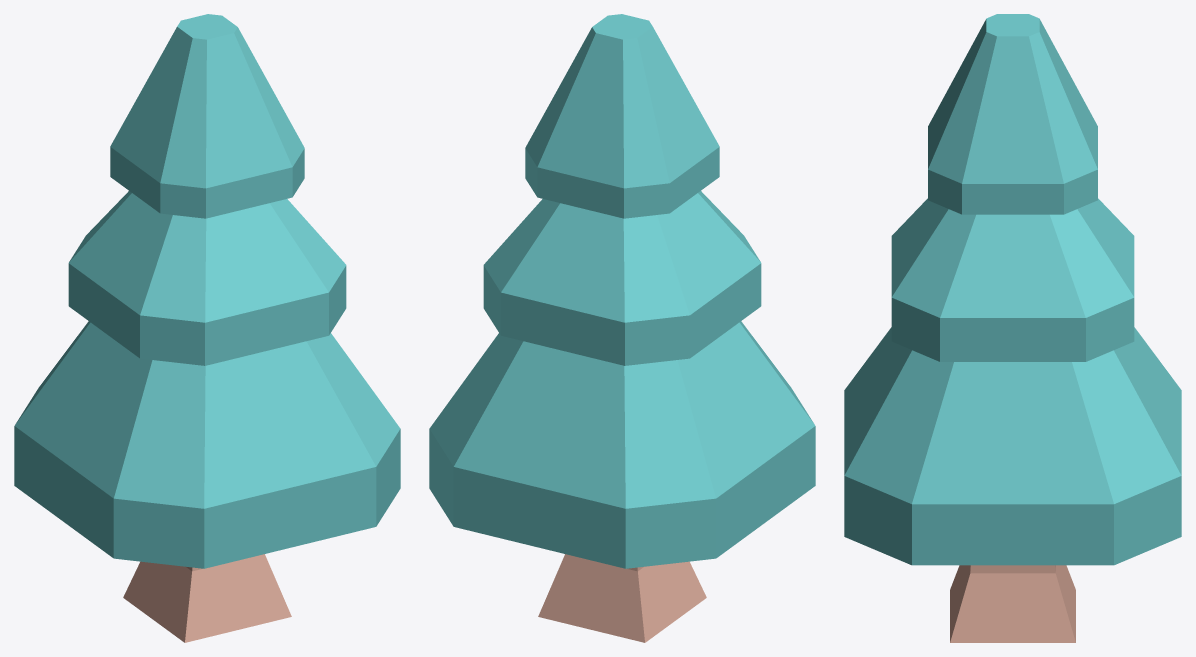
3 renders of one model, left to right at view 1: azimuth 30°, elevation 25°; view 2: azimuth 150°, elevation 25°; view 3: azimuth 270°, elevation 25°, orthographic.
Visible parts, largest first — view 1: tree_pineSmallA; view 2: tree_pineSmallA; view 3: tree_pineSmallA.
Part boxes in pixels (left/top/right/bottom): tree_pineSmallA: left=14, top=14, right=400, bottom=642; tree_pineSmallA: left=429, top=14, right=815, bottom=642; tree_pineSmallA: left=844, top=14, right=1181, bottom=642.
Size of the model in its own units: 0.5 by 0.9672 by 0.5.
